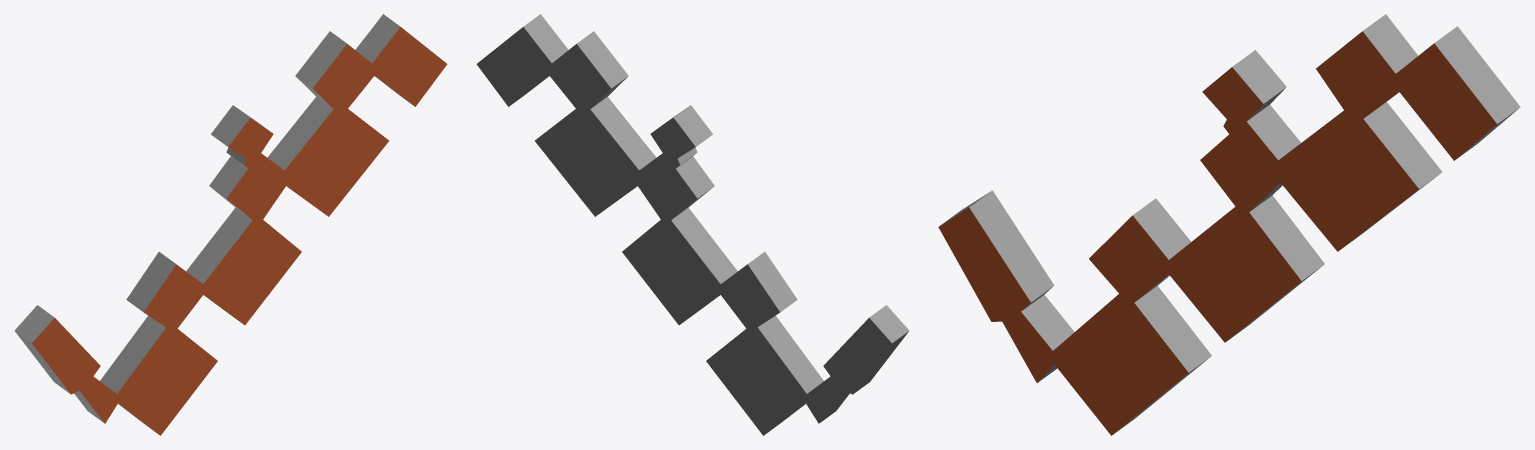
File: construction_4741_assumed_A_Casa_h6m.obj
3 views of the same model, side by side, from view 1: azimuth 30°, elevation 25°; view 2: azimuth 150°, elevation 25°; view 3: azimuth 330°, elevation 25° (orthographic). The views are drawn at different scales.
Parts seen in each view (by area): view 1: construction_4741_assumed_A_Casa; view 2: construction_4741_assumed_A_Casa; view 3: construction_4741_assumed_A_Casa.
Boxes of the visible parts, x1,y1,x2,y2 form: construction_4741_assumed_A_Casa: (14,14,447,435); construction_4741_assumed_A_Casa: (476,14,909,435); construction_4741_assumed_A_Casa: (938,14,1520,435).
Bounding box in the file's own units: 82.81 × 66.75 × 6.
